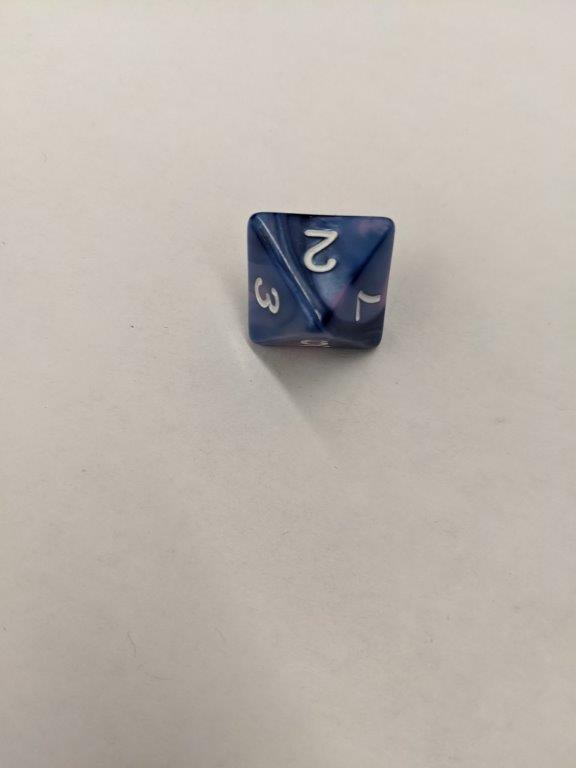d8-2: (243, 210, 392, 356)
